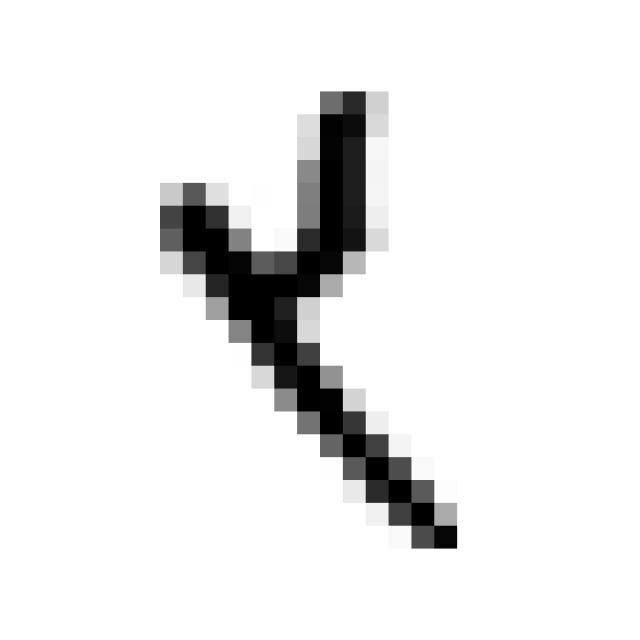3 -three-: (138, 71, 482, 566)
